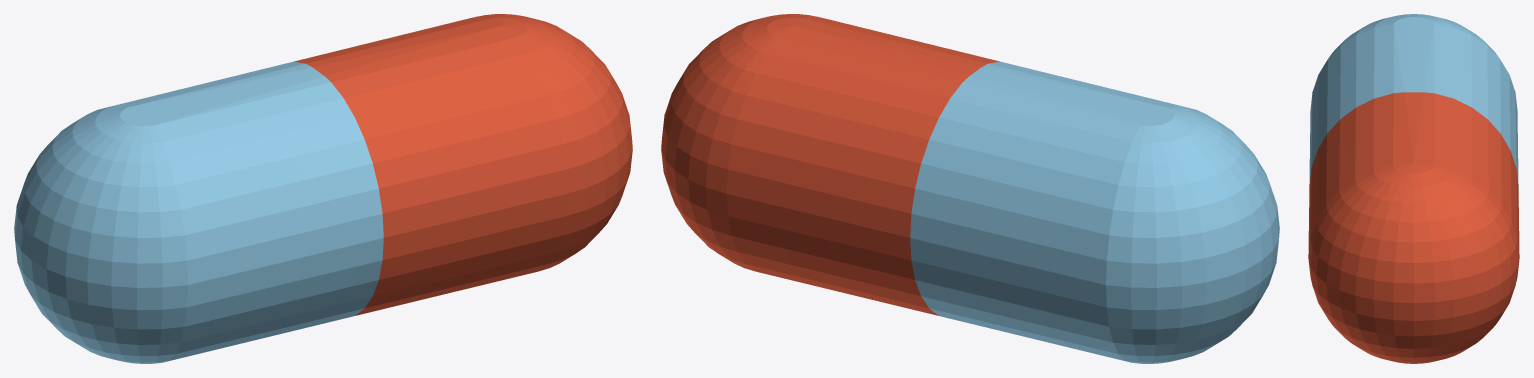
File: pill.fbx
The picture shows the model from 3 angles, left to right: view 1: azimuth 30°, elevation 25°; view 2: azimuth 150°, elevation 25°; view 3: azimuth 270°, elevation 25°; orthographic projection. The views are drawn at different scales.
Visible parts, largest first — view 1: pill; view 2: pill; view 3: pill.
Boxes of the visible parts, x1,y1,x2,y2 form: pill: (14,14,632,363); pill: (661,14,1279,363); pill: (1308,14,1519,363).
Bounding box in the file's own units: 128 × 50 × 50.
Materials: 2 (2 with a texture image).
